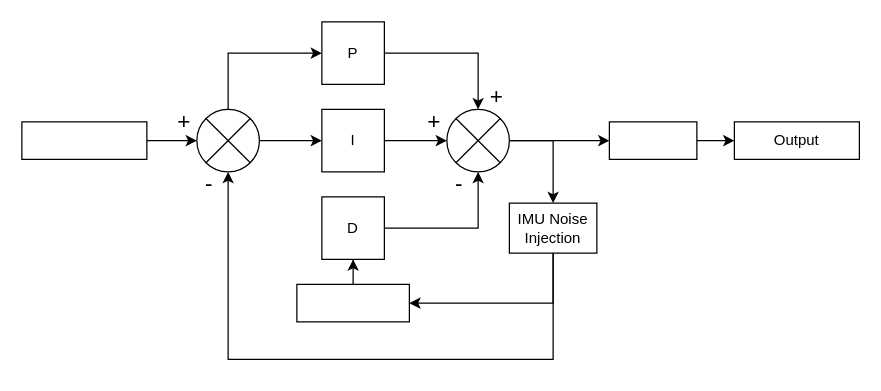
This 881x391 diagram has some shape labels left out. The shapes that lost their labels are listed below. From the top down, each one's centre as x and y in pixels, then its label:
(x=84, y=140): Command
(x=652, y=140): Saturation
(x=352, y=302): Low Pass Filter
